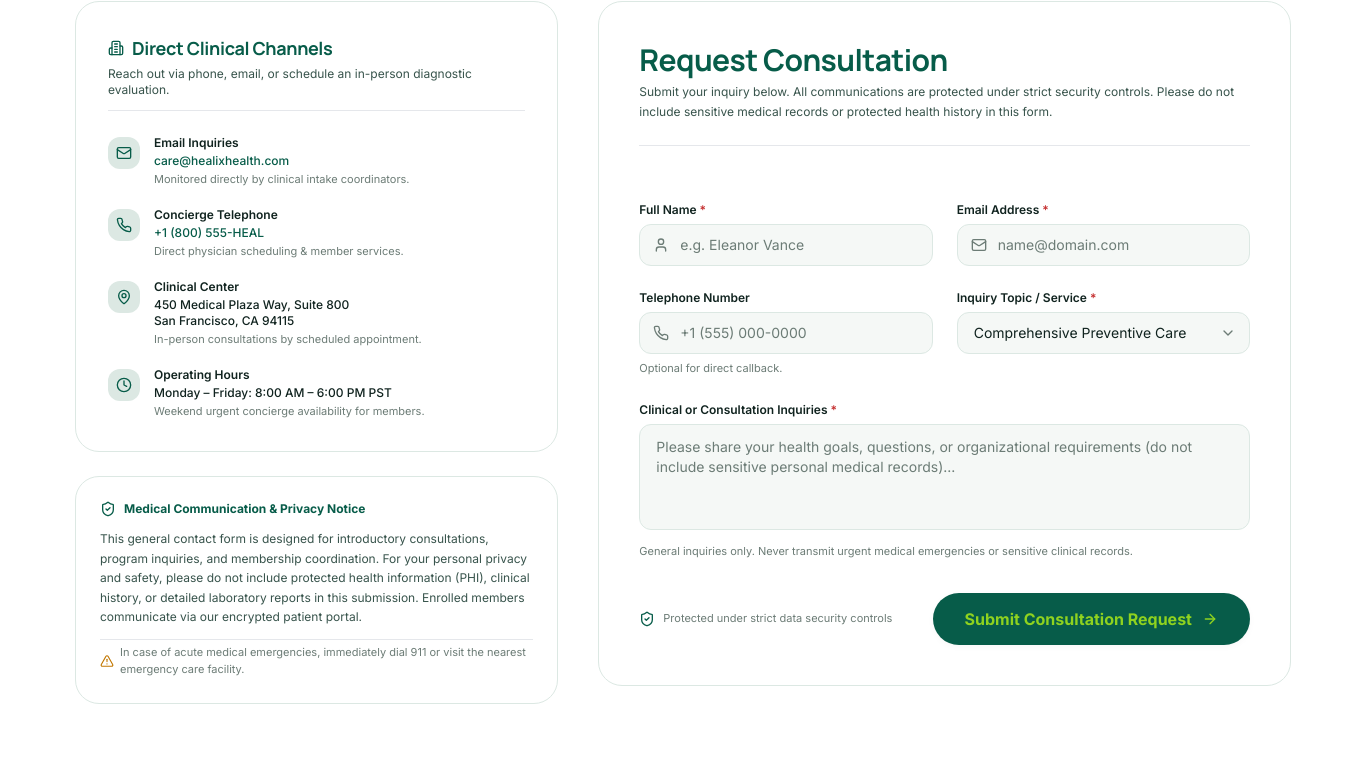
Test: Contact Experience Tests (Phase 15) › Contact Form Validation & Submission › validates required fields on submission attempt
(page scrolled)
Click the button "Submit Consultation Request" at (1091, 619), box [932,593,1250,645]
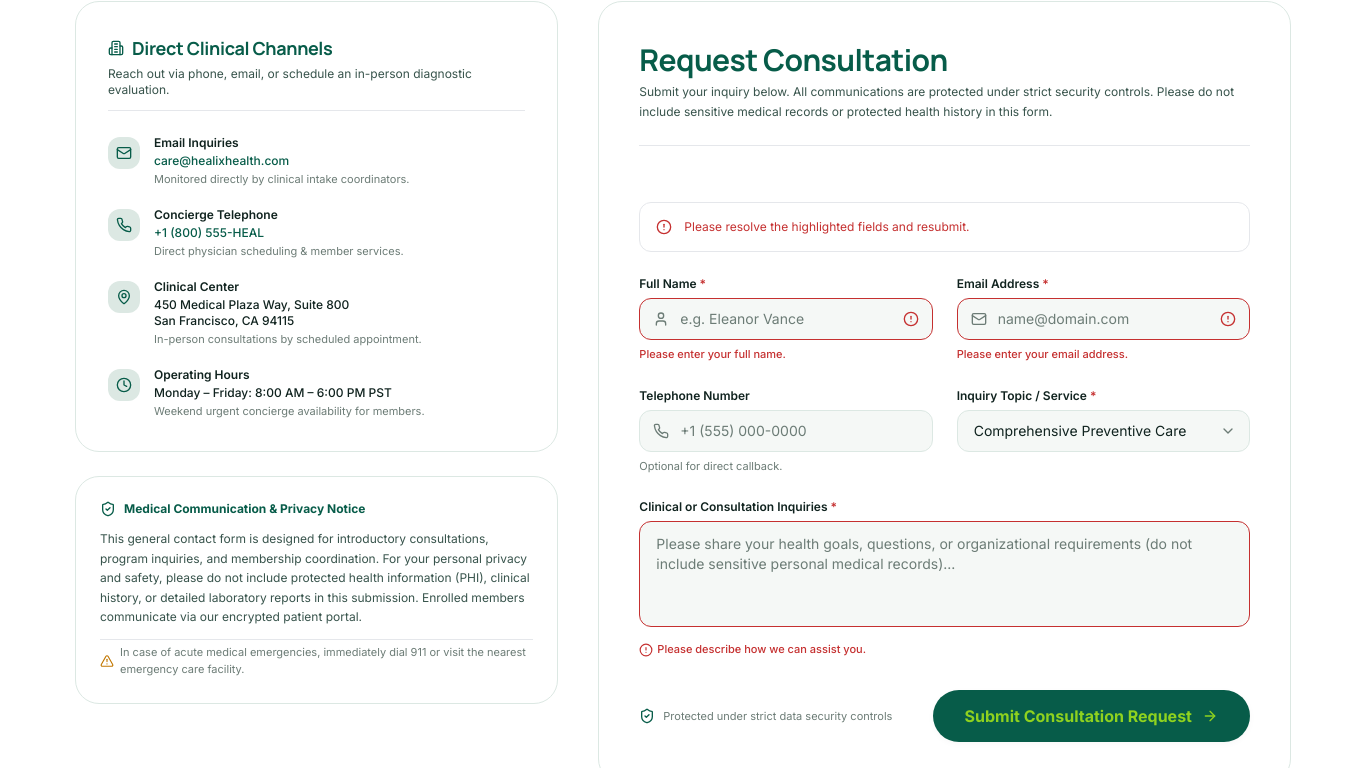
Result: the text "Please enter your full name." is shown at [639,346,786,364]
Result: the text "Please enter your email address." is shown at [957,346,1128,364]
